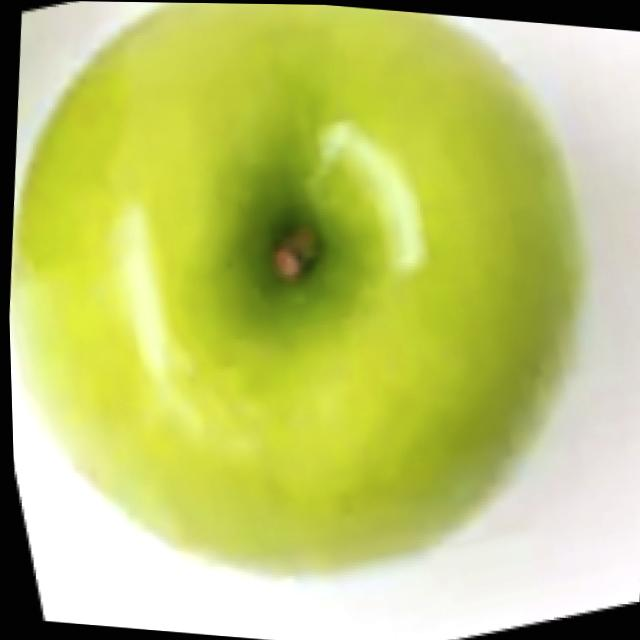organik: (0, 0, 619, 640)
